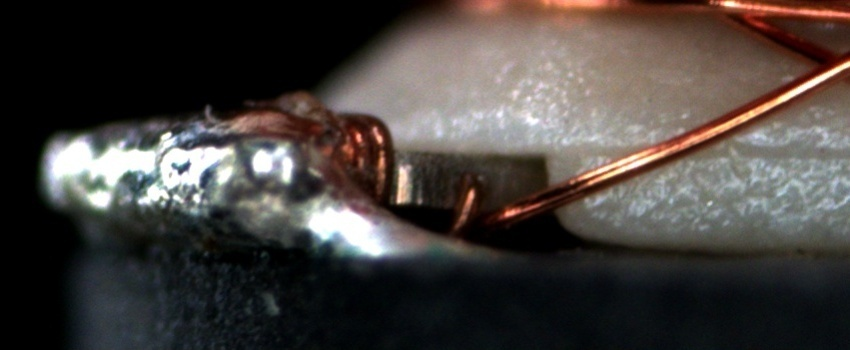CL: (785, 37, 847, 92)
DL: (564, 122, 849, 186)
TE: (315, 102, 489, 230)
